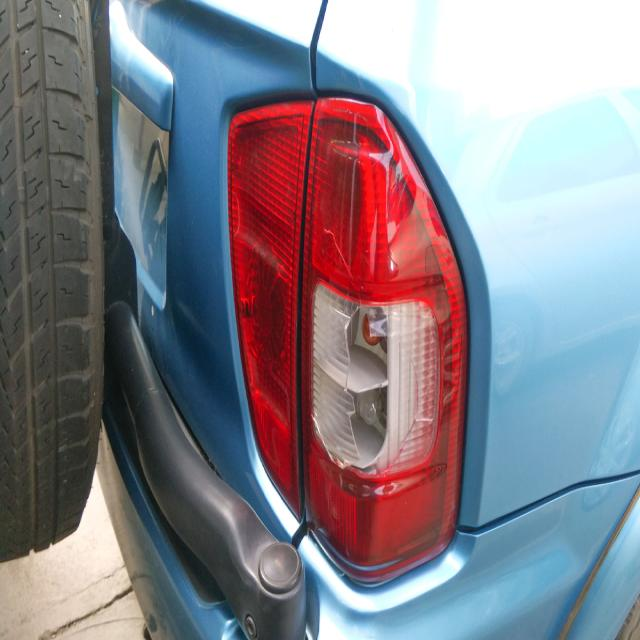Phare abime: (313, 215, 427, 493)
